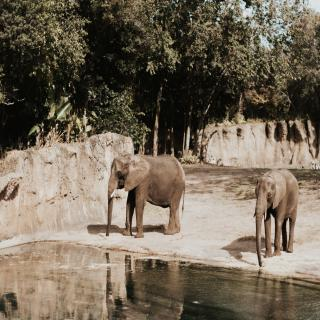Elephant: (104, 149, 193, 239), (251, 167, 308, 269)
